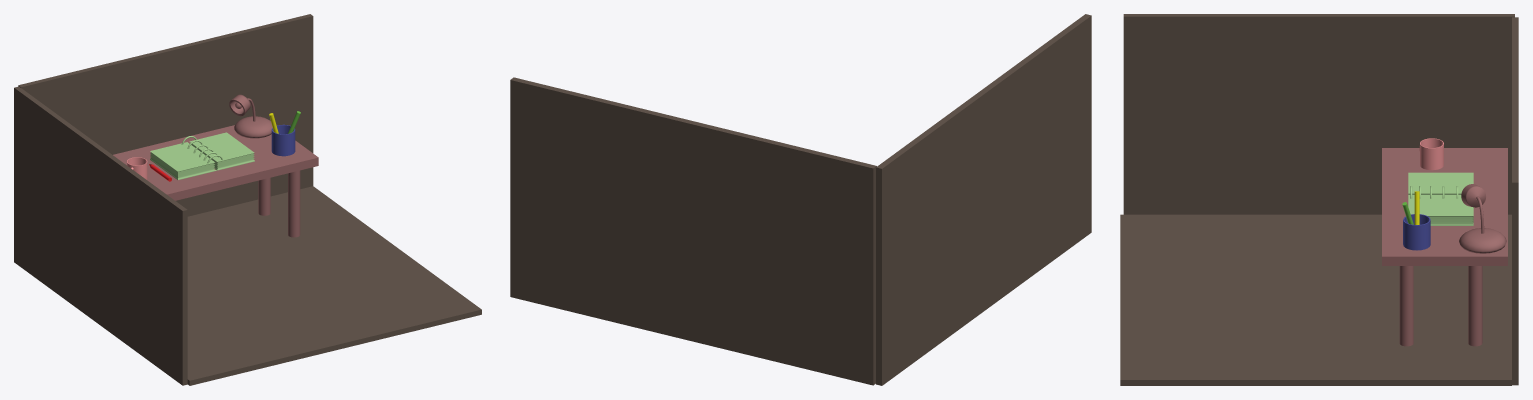
Rendered from Scene2_Sketchfab.fbx.
3 renders of one model, left to right at view 1: azimuth 30°, elevation 25°; view 2: azimuth 150°, elevation 25°; view 3: azimuth 270°, elevation 25°, orthographic. The views are drawn at different scales.
Visible parts, largest first — view 1: pCube1, pCube3, pCube2, desk:pCube1, sketchpad:pCube2, sketchpad:pCube1, desk:pCylinder4, deskLamp:revolvedSurface1, penHolder:polySurface1, desk:pCylinder2; view 2: pCube2, pCube3; view 3: pCube3, pCube1, desk:pCube1, pCube2, sketchpad:pCube1, sketchpad:pCube2, desk:pCylinder2, desk:pCylinder4, deskLamp:revolvedSurface1, penHolder:polySurface1, mug:polySurface1, deskLamp:revolvedSurface2.
Part boxes in pixels (x1,y1,x2,y2): pCube1: (187,186,481,385); pCube3: (14,86,187,385); pCube2: (18,14,313,216); desk:pCube1: (113,125,318,200); sketchpad:pCube2: (150,142,215,179); sketchpad:pCube1: (189,132,254,170); desk:pCylinder4: (288,170,300,237); deskLamp:revolvedSurface1: (234,116,272,138); penHolder:polySurface1: (271,124,295,156); desk:pCylinder2: (258,177,270,215); pCube2: (510,77,876,385); pCube3: (876,14,1091,385); pCube3: (1123,14,1514,214); pCube1: (1120,214,1511,385); desk:pCube1: (1382,148,1507,265); pCube2: (1512,17,1518,385); sketchpad:pCube1: (1408,195,1473,225); sketchpad:pCube2: (1408,172,1473,194); desk:pCylinder2: (1468,266,1482,346); desk:pCylinder4: (1399,266,1413,346); deskLamp:revolvedSurface1: (1459,228,1506,253); penHolder:polySurface1: (1403,214,1430,250); mug:polySurface1: (1420,138,1443,170); deskLamp:revolvedSurface2: (1461,184,1485,207).
Bounding box in the file's own units: 7.14 × 4.01 × 7.12.
1 material, 1 textured.
